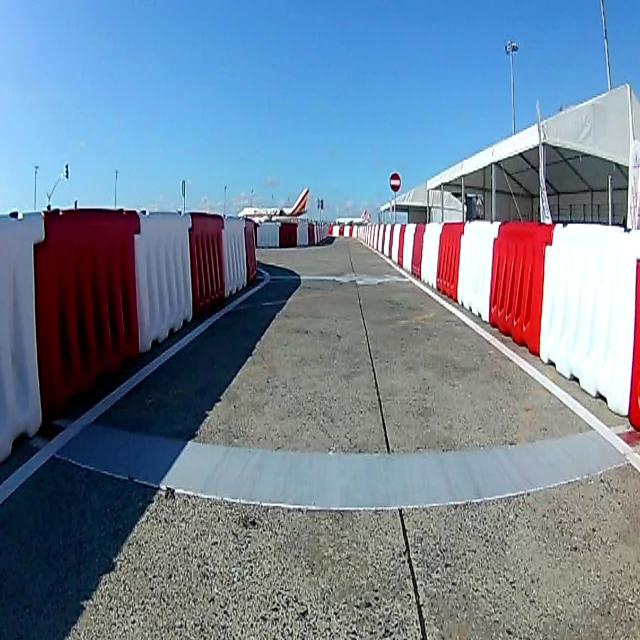girisyok: (389, 170, 402, 194)
